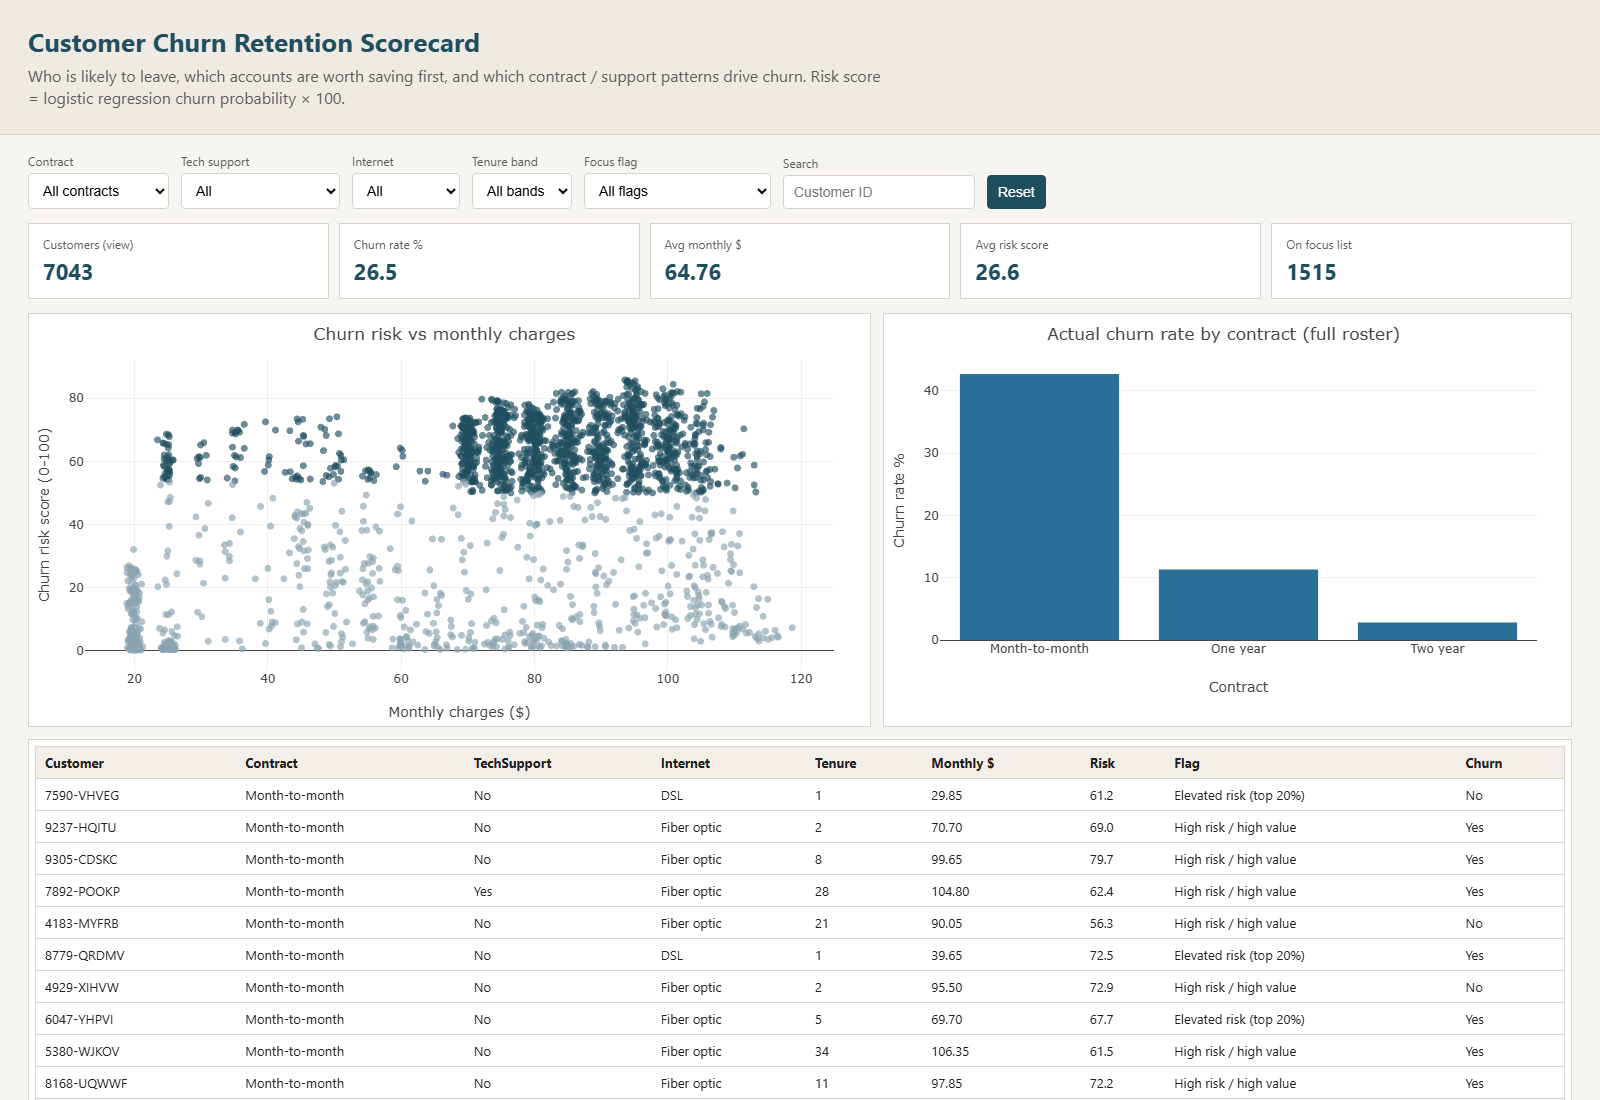

The dashboard page shown, as its layout file describes it:
{"tool":"powerbi","page":{"name":"Scorecard","canvas":[1280,720],"ordinal":0},"visuals":[{"type":"textbox","box":[9.6,0,1232.3,112.5],"z":0},{"type":"slicer","fields":{"Values":["customers.Contract"]},"box":[9.6,112.5,249.7,75.5],"z":1},{"type":"slicer","fields":{"Values":["customers.TechSupport"]},"box":[259.3,113.9,244.3,74.1],"z":2},{"type":"slicer","fields":{"Values":["customers.InternetService"]},"box":[503.6,112.5,240.1,75.5],"z":3},{"type":"slicer","fields":{"Values":["customers.Tenure_Band"]},"box":[743.7,112.5,255.2,75.5],"z":4},{"type":"slicer","fields":{"Values":["customers.Focus_Flag"]},"box":[999,113.9,281.3,74.1],"z":5},{"type":"cardVisual","title":"Customers","fields":{"Data":["CountNonNull(customers.customerID)"]},"box":[0,188,259.3,141.3],"z":6},{"type":"cardVisual","title":"Churn rate %","fields":{"Data":["customers.Churn Rate %"]},"box":[259.3,188,244.3,141.3],"z":7},{"type":"cardVisual","title":"Avg monthly $","fields":{"Data":["Avg(customers.MonthlyCharges)"]},"box":[503.6,188,240.1,141.3],"z":8},{"type":"cardVisual","title":"Avg risk score","fields":{"Data":["Avg(customers.Churn_Risk_Score)"]},"box":[743.7,188,259.3,141.3],"z":9},{"type":"cardVisual","title":"On focus list","fields":{"Data":["customers.Focus Count"]},"box":[1003.1,188,277.2,141.3],"z":10},{"type":"scatterChart","title":"Churn risk vs Monthly charges","fields":{"Category":["customers.customerID"],"Series":["customers.Focus_Flag"],"X":["Sum(customers.MonthlyCharges)"],"Y":["Sum(customers.Churn_Risk_Score)"]},"box":[0,329.3,639.5,233.3],"z":11},{"type":"clusteredBarChart","title":"Actual churn rate by contract","fields":{"Category":["customers.Contract"],"Y":["customers.Churn Rate %"]},"box":[639.5,329.3,639.5,233.3],"z":12},{"type":"tableEx","fields":{"Values":["customers.customerID","customers.Contract","customers.TechSupport","customers.InternetService","Sum(customers.tenure)","Sum(customers.MonthlyCharges)","Sum(customers.Churn_Risk_Score)","customers.Focus_Flag","customers.Churn"]},"box":[0,562.6,1278.9,157.8],"z":13}]}

Visuals, with their boxes on the page's 1280x720 design canvas (x1, y1, x2, y2). These are canvas units, not pixel positions in the 1600x1100 screenshot, which may show the page scaled, cropped or inside an application window:
textbox: box(10, 0, 1242, 112)
slicer - customers.Contract: box(10, 112, 259, 188)
slicer - customers.TechSupport: box(259, 114, 504, 188)
slicer - customers.InternetService: box(504, 112, 744, 188)
slicer - customers.Tenure_Band: box(744, 112, 999, 188)
slicer - customers.Focus_Flag: box(999, 114, 1280, 188)
"Customers" cardVisual: box(0, 188, 259, 329)
"Churn rate %" cardVisual: box(259, 188, 504, 329)
"Avg monthly $" cardVisual: box(504, 188, 744, 329)
"Avg risk score" cardVisual: box(744, 188, 1003, 329)
"On focus list" cardVisual: box(1003, 188, 1280, 329)
"Churn risk vs Monthly charges" scatterChart: box(0, 329, 640, 563)
"Actual churn rate by contract" clusteredBarChart: box(640, 329, 1279, 563)
tableEx - customers.customerID x customers.Contract: box(0, 563, 1279, 720)
